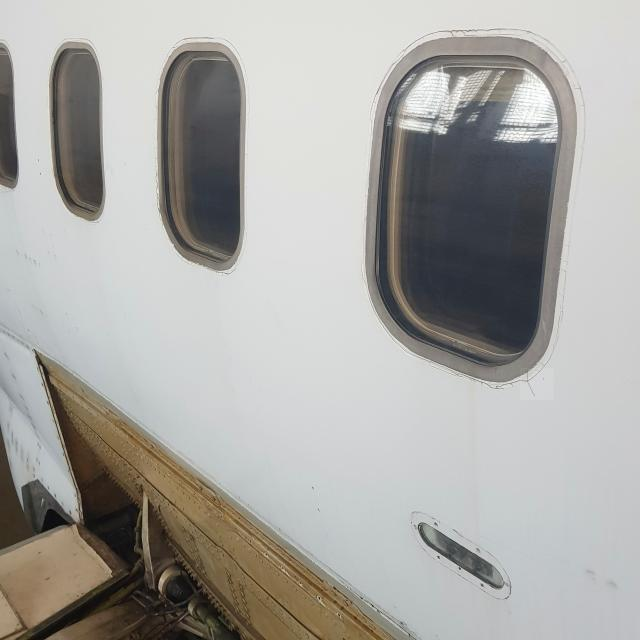crack: (521, 369, 555, 401)
